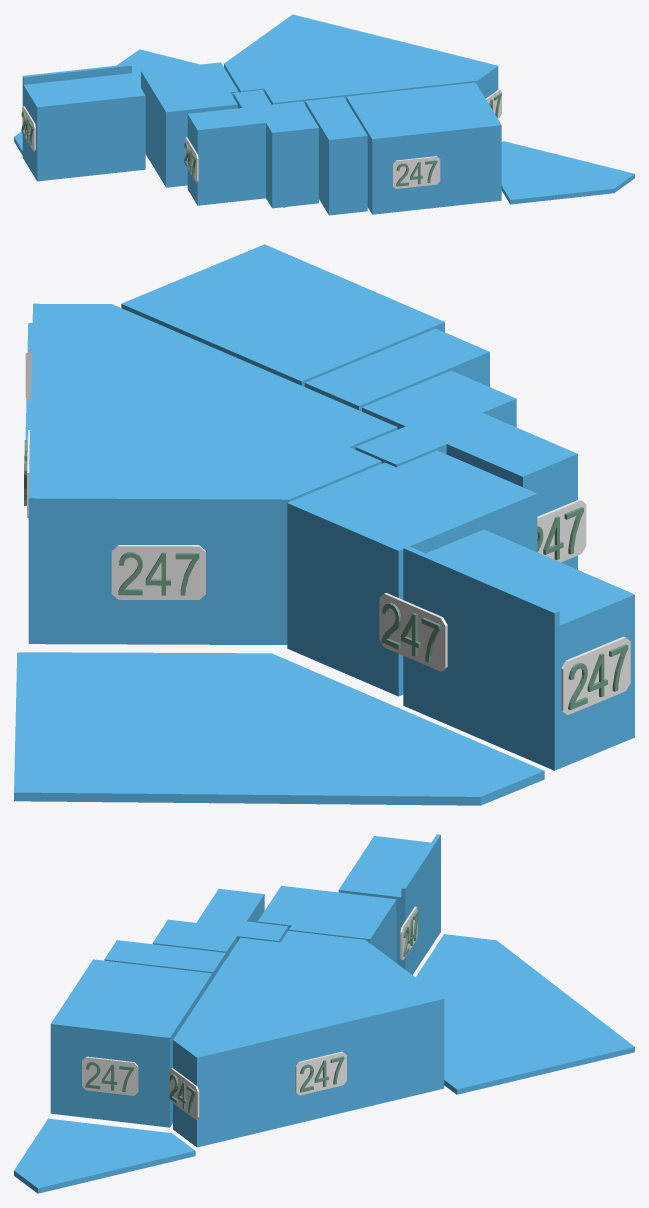
3 renders of one model, top to bottom at view 1: azimuth 30°, elevation 25°; view 2: azimuth 150°, elevation 25°; view 3: azimuth 270°, elevation 25°, orthographic. The views are drawn at different scales.
Parts seen in each view (by area): view 1: g_1, g_0, g_3, g_5, g_4, g_2, g_7, g_6, g_19; view 2: g_0, g_6, g_5, g_4, g_1, g_3, g_2, g_11, g_15, g_31, g_35; view 3: g_0, g_6, g_1, g_7, g_5, g_4, g_3, g_2, g_39, g_23, g_27.
Part boxes in pixels (x1,y1,x2,y2): g_1: [346, 82, 501, 214]; g_0: [224, 14, 498, 104]; g_3: [187, 90, 318, 208]; g_5: [22, 64, 145, 181]; g_4: [141, 62, 238, 187]; g_2: [305, 97, 367, 215]; g_7: [501, 141, 634, 204]; g_6: [14, 49, 199, 155]; g_19: [392, 156, 440, 188]; g_0: [28, 303, 397, 644]; g_6: [14, 652, 544, 805]; g_5: [403, 529, 634, 770]; g_4: [287, 450, 537, 696]; g_1: [121, 244, 444, 386]; g_3: [355, 370, 577, 569]; g_2: [304, 328, 489, 411]; g_11: [111, 545, 205, 599]; g_15: [379, 593, 447, 671]; g_31: [561, 636, 630, 714]; g_35: [537, 499, 586, 562]; g_0: [173, 931, 444, 1147]; g_6: [415, 934, 634, 1094]; g_1: [50, 959, 212, 1127]; g_7: [14, 1118, 195, 1193]; g_5: [338, 834, 440, 974]; g_4: [257, 885, 396, 962]; g_3: [152, 888, 288, 958]; g_2: [104, 940, 225, 979]; g_39: [82, 1056, 138, 1095]; g_23: [295, 1051, 346, 1095]; g_27: [169, 1068, 199, 1119].
Bounding box in the file's own units: 15.8 × 2.85 × 15.65.
